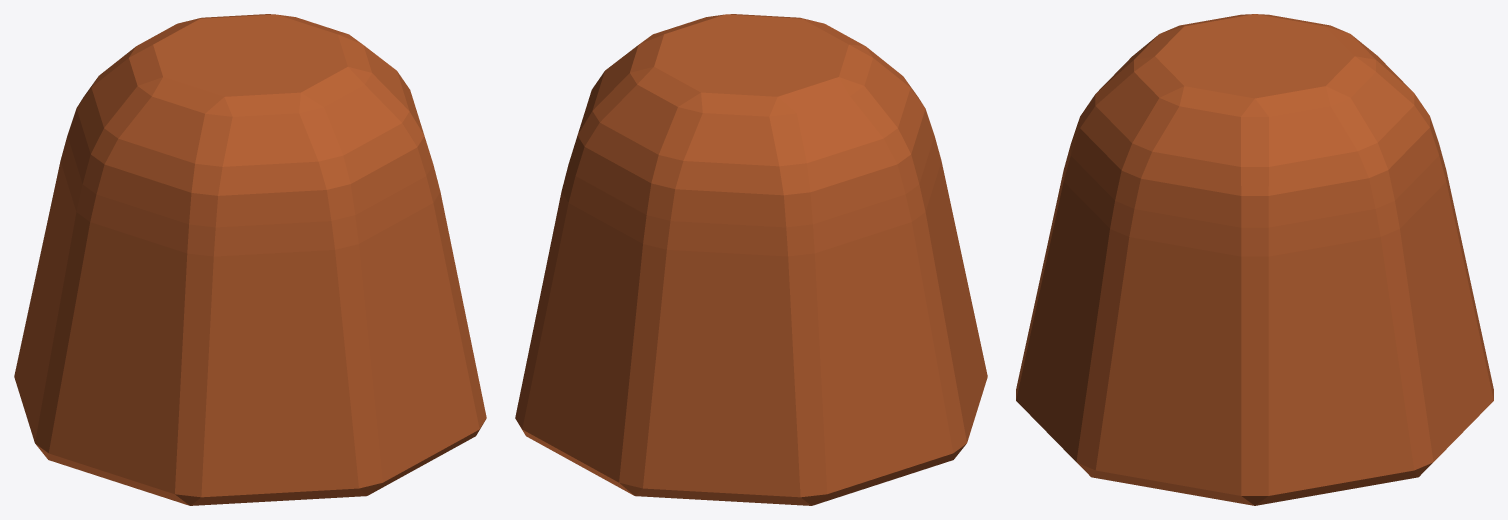
Rendered from leafPile.fbx.
The picture shows the model from 3 angles, left to right: view 1: azimuth 30°, elevation 25°; view 2: azimuth 150°, elevation 25°; view 3: azimuth 270°, elevation 25°; orthographic projection.
Parts seen in each view (by area): view 1: Cylinder; view 2: Cylinder; view 3: Cylinder.
Boxes of the visible parts, x1,y1,x2,y2 form: Cylinder: (14,14,486,505); Cylinder: (515,14,987,505); Cylinder: (1016,14,1493,505).
Bounding box in the file's own units: 246 × 200 × 246.
